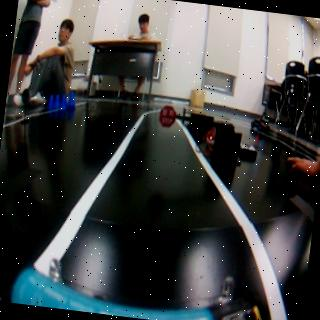stop: (158, 104, 178, 126)
